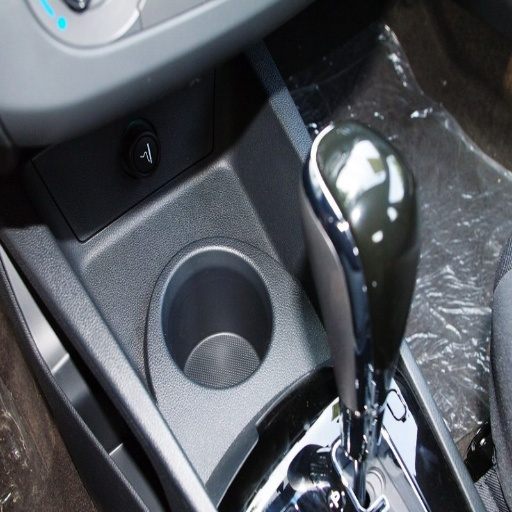back_bumper: (234, 393, 333, 508)
